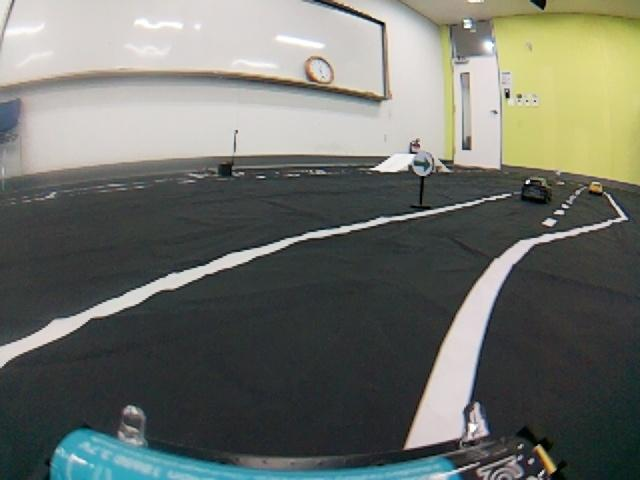right: (11, 219, 624, 472)
sign_right: (414, 149, 436, 176)
